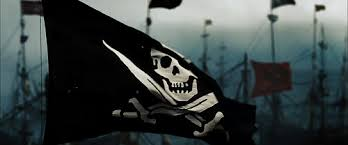Jolly Roger Flag: (39, 2, 268, 145)
